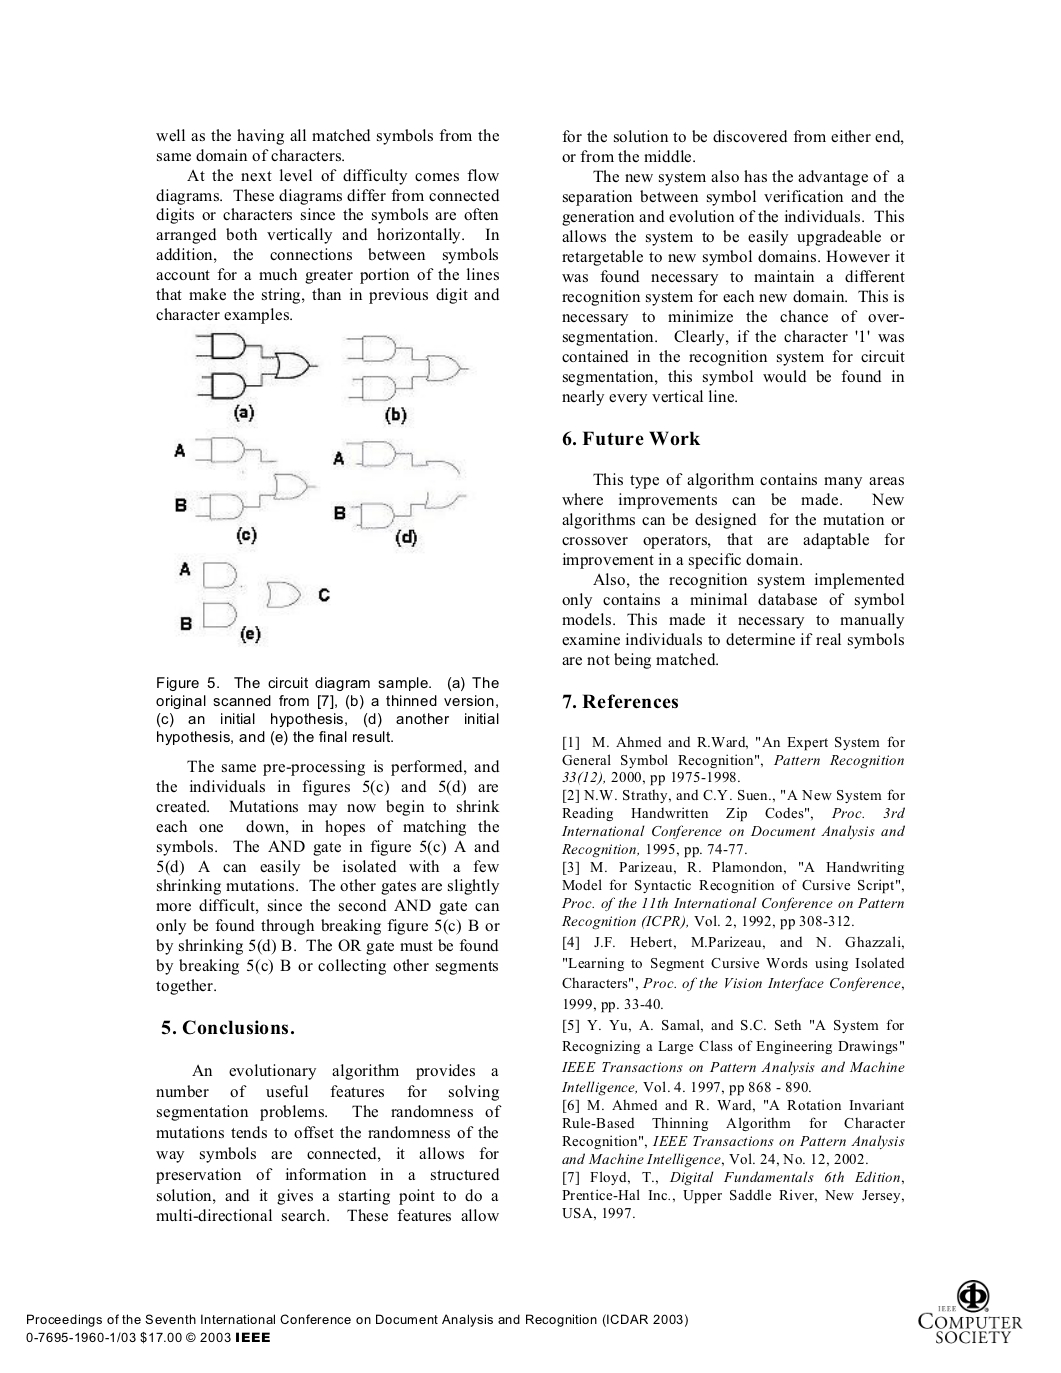figure: (174, 435, 317, 551), (332, 440, 466, 552), (177, 561, 329, 647), (195, 331, 318, 427), (344, 335, 469, 426), (918, 1281, 1022, 1343)
